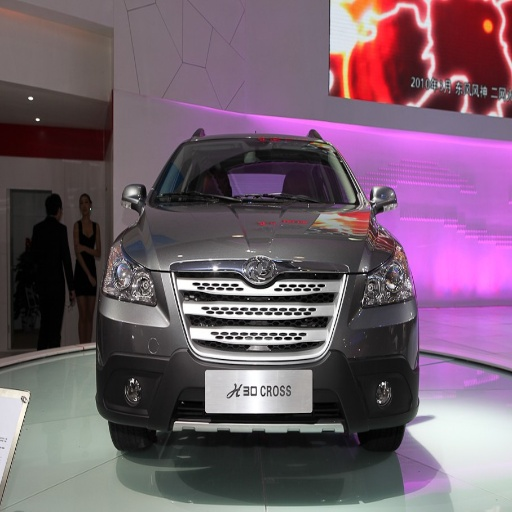front_bumper: (97, 261, 415, 444)
front_right_light: (101, 238, 162, 307)
hood: (130, 205, 393, 275)
